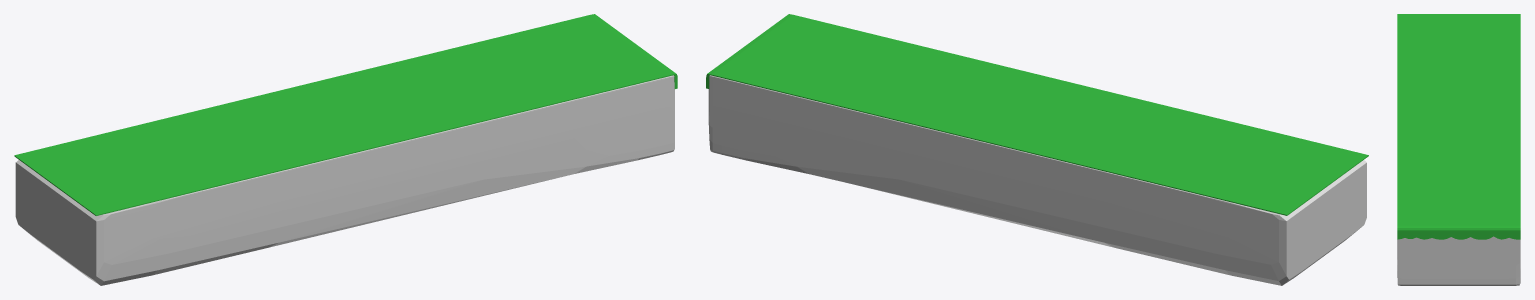
File: Tile_Base.fbx
3 views of the same model, side by side, from view 1: azimuth 30°, elevation 25°; view 2: azimuth 150°, elevation 25°; view 3: azimuth 270°, elevation 25° (orthographic). The views are drawn at different scales.
Visible parts, largest first — view 1: Cube.008; view 2: Cube.008; view 3: Cube.008.
Boxes of the visible parts, bbox=[...] form: Cube.008: bbox=[14, 14, 677, 285]; Cube.008: bbox=[706, 14, 1368, 285]; Cube.008: bbox=[1397, 14, 1520, 285].
Bounding box in the file's own units: 4103 × 531 × 1000.
